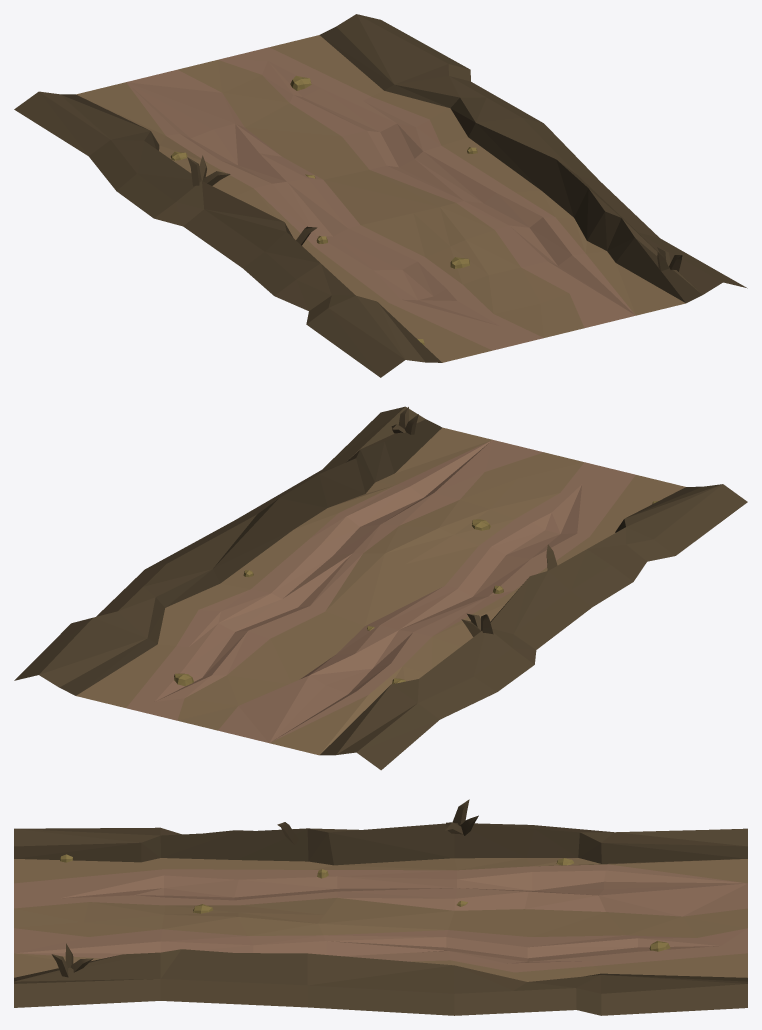
File: SM_Env_Road_Straight_01.fbx
3 views of the same model, one above another, from view 1: azimuth 30°, elevation 25°; view 2: azimuth 150°, elevation 25°; view 3: azimuth 270°, elevation 25° (orthographic).
Parts seen in each view (by area): view 1: SM_Env_Road_Straight_01; view 2: SM_Env_Road_Straight_01; view 3: SM_Env_Road_Straight_01.
Boxes of the visible parts, x1=… form: SM_Env_Road_Straight_01: x1=14, y1=14, x2=747, y2=377; SM_Env_Road_Straight_01: x1=14, y1=406, x2=747, y2=770; SM_Env_Road_Straight_01: x1=14, y1=799, x2=747, y2=1015.
Bounding box in the file's own units: 0.0369 × 0.00499 × 0.06.
1 material, 1 textured.
